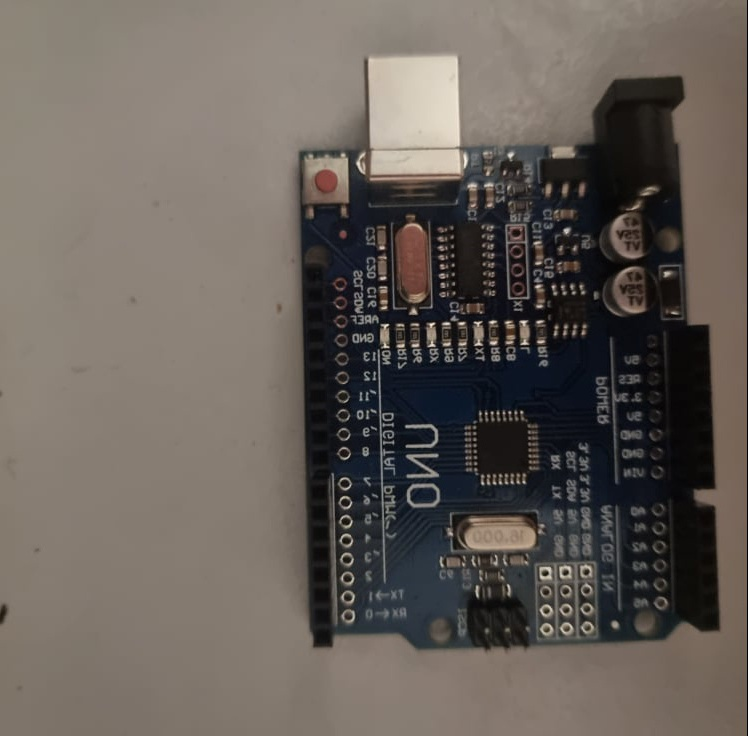UNO R3: (298, 39, 726, 658)
